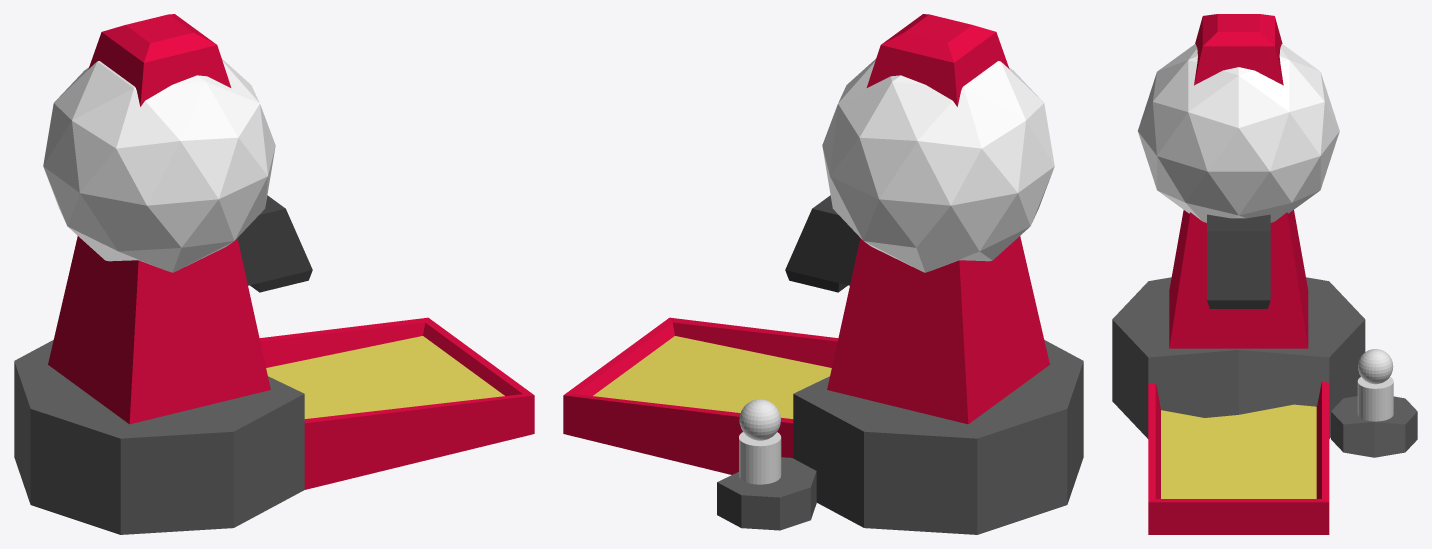
Rendered from gumballmachine.glb.
The picture shows the model from 3 angles, left to right: view 1: azimuth 30°, elevation 25°; view 2: azimuth 150°, elevation 25°; view 3: azimuth 270°, elevation 25°; orthographic projection. The views are drawn at different scales.
Parts seen in each view (by area): view 1: Cube-col, Icosphere, Cube.001-col, Cube.002-col, Cube.004-col, Cube.003-col; view 2: Icosphere, Cube-col, Cube.002-col, Cube.001-col, Cube.004-col, Cube.005-col, Cube.003-col, Cylinder-col, Trigger-stompbutton; view 3: Icosphere, Cube.001-col, Cube-col, Cube.002-col, Cube.003-col, Cube.004-col, Cube.005-col, Cylinder-col, Trigger-stompbutton.
Boxes of the visible parts, bbox=[...] form: Cube-col: bbox=[14, 340, 304, 534]; Icosphere: bbox=[43, 59, 275, 272]; Cube.001-col: bbox=[259, 317, 534, 489]; Cube.002-col: bbox=[48, 236, 270, 424]; Cube.004-col: bbox=[88, 14, 231, 106]; Cube.003-col: bbox=[237, 195, 312, 292]; Icosphere: bbox=[822, 59, 1054, 272]; Cube-col: bbox=[793, 340, 1083, 534]; Cube.002-col: bbox=[827, 236, 1049, 424]; Cube.001-col: bbox=[563, 317, 838, 474]; Cube.004-col: bbox=[866, 14, 1009, 106]; Cube.005-col: bbox=[717, 457, 816, 530]; Cube.003-col: bbox=[785, 195, 860, 292]; Cylinder-col: bbox=[739, 432, 781, 484]; Trigger-stompbutton: bbox=[739, 399, 780, 440]; Icosphere: bbox=[1138, 44, 1339, 222]; Cube.001-col: bbox=[1148, 381, 1329, 534]; Cube-col: bbox=[1112, 277, 1365, 438]; Cube.002-col: bbox=[1169, 210, 1308, 348]; Cube.003-col: bbox=[1207, 214, 1270, 308]; Cube.004-col: bbox=[1194, 14, 1283, 85]; Cube.005-col: bbox=[1331, 396, 1417, 457]; Cylinder-col: bbox=[1357, 377, 1393, 421]; Trigger-stompbutton: bbox=[1358, 349, 1393, 384].
Size of the model in its own units: 9.8 by 9.24 by 6.76.
